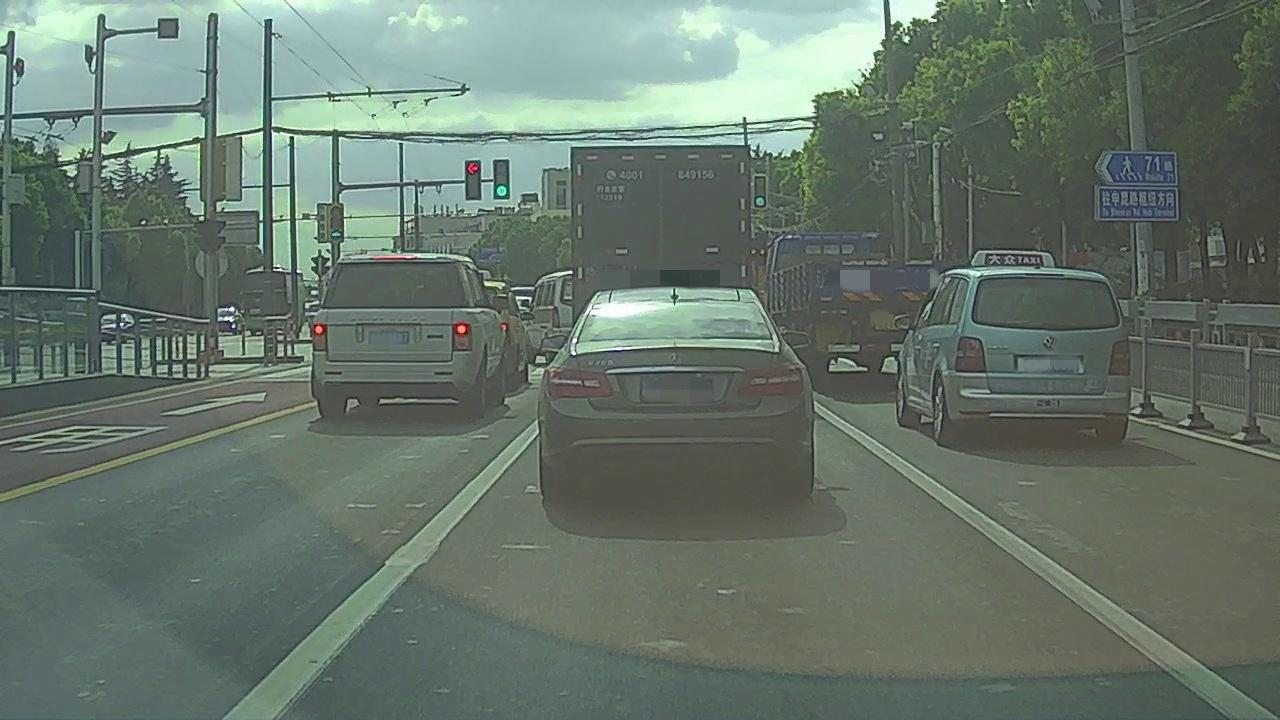traffic_light: (492, 159, 510, 201), (466, 161, 481, 200), (752, 175, 766, 206)
